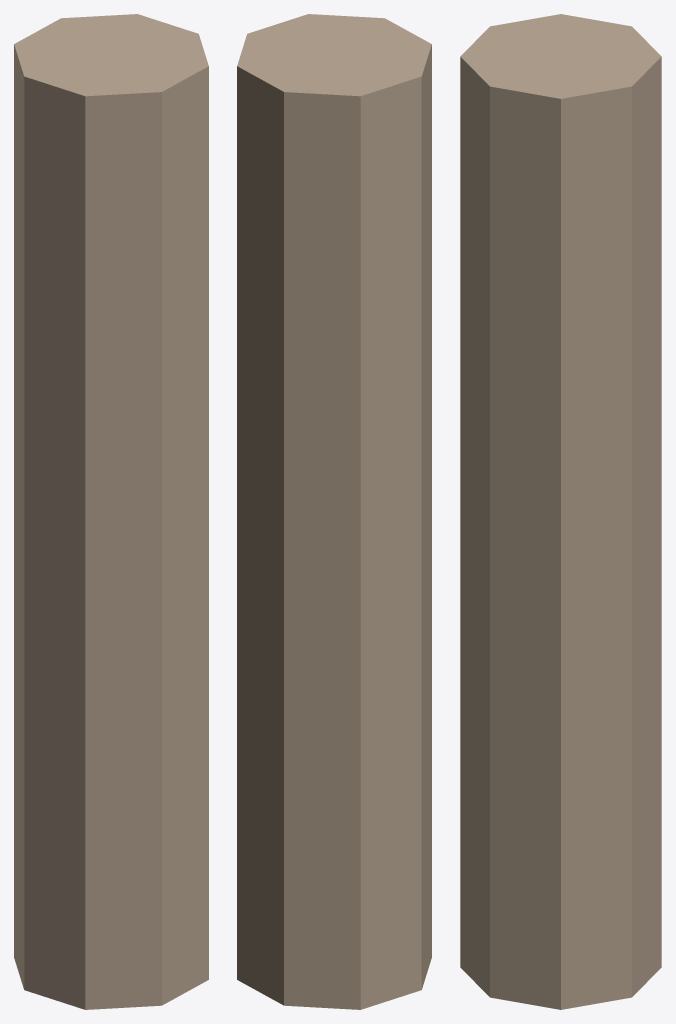
File: struct_tower.glb
The picture shows the model from 3 angles, left to right: view 1: azimuth 30°, elevation 25°; view 2: azimuth 150°, elevation 25°; view 3: azimuth 270°, elevation 25°; orthographic projection.
Parts seen in each view (by area): view 1: struct_tower; view 2: struct_tower; view 3: struct_tower.
Part boxes in pixels (left/top/right/bottom): struct_tower: left=14, top=14, right=208, bottom=1009; struct_tower: left=237, top=14, right=431, bottom=1009; struct_tower: left=460, top=14, right=661, bottom=1009.
Size of the model in its own units: 0.5476 by 2.74 by 0.5476.
